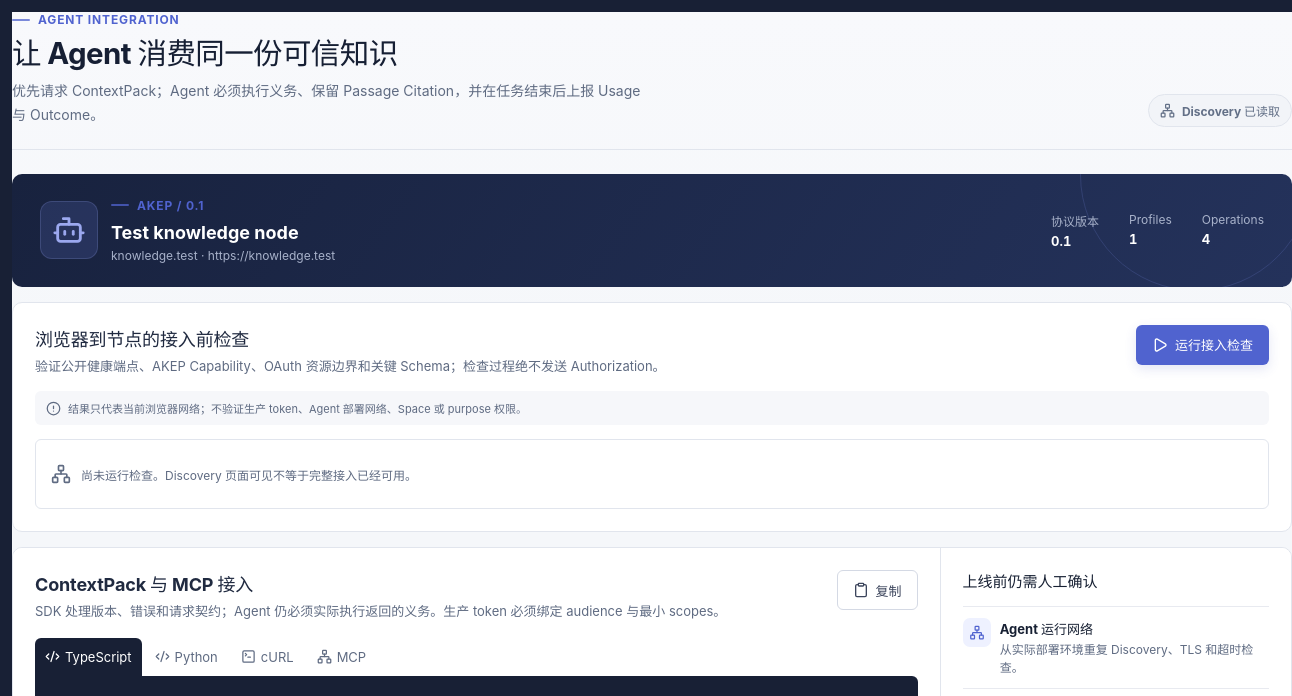
Test: Agent integration setup › renders warnings and their remediation after a real preflight
The image size is (1292, 696).
Click the button "运行接入检查".
click(1202, 345)  # box top-left (1136, 325), bottom-right (1269, 365)
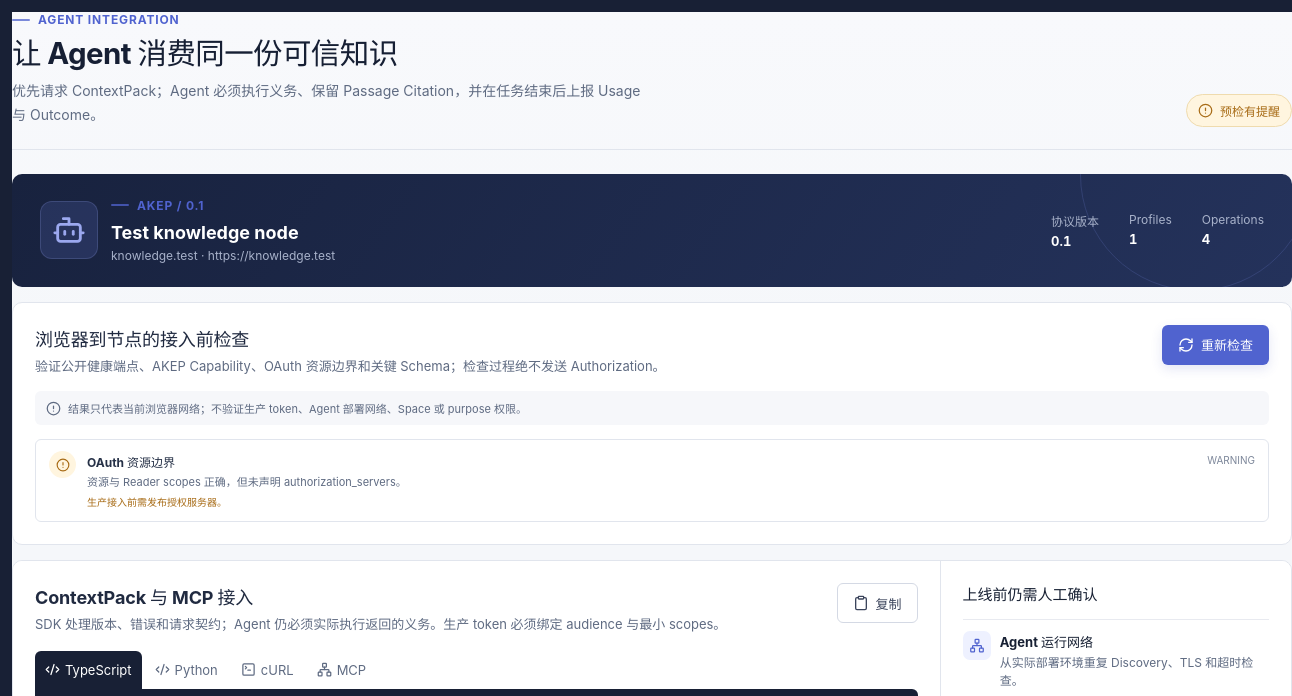
Result: the text "预检有提醒" is shown at top-left (1186, 94), bottom-right (1291, 127)
Result: the text "OAuth 资源边界" is shown at top-left (87, 455), bottom-right (175, 470)
Result: the text "生产接入前需发布授权服务器。" is shown at top-left (87, 496), bottom-right (227, 508)
